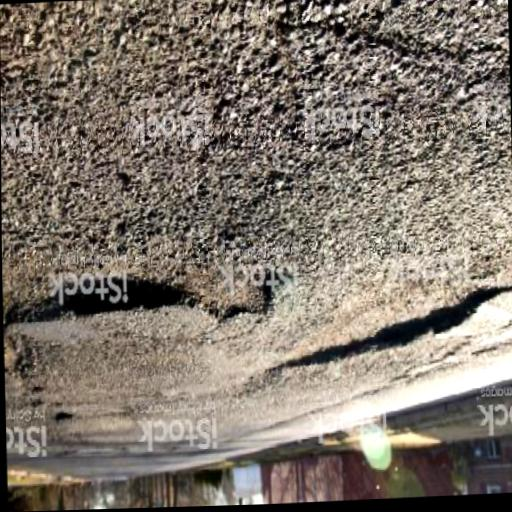pothole: (269, 260, 510, 379), (3, 247, 282, 337)
